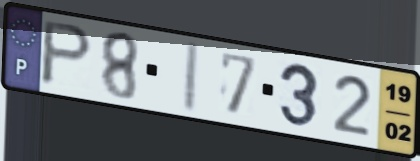2: (332, 73, 374, 139)
3: (275, 62, 324, 132)
7: (218, 50, 260, 118)
8: (98, 30, 142, 101)
I: (179, 39, 203, 116)
P: (37, 18, 96, 88)
